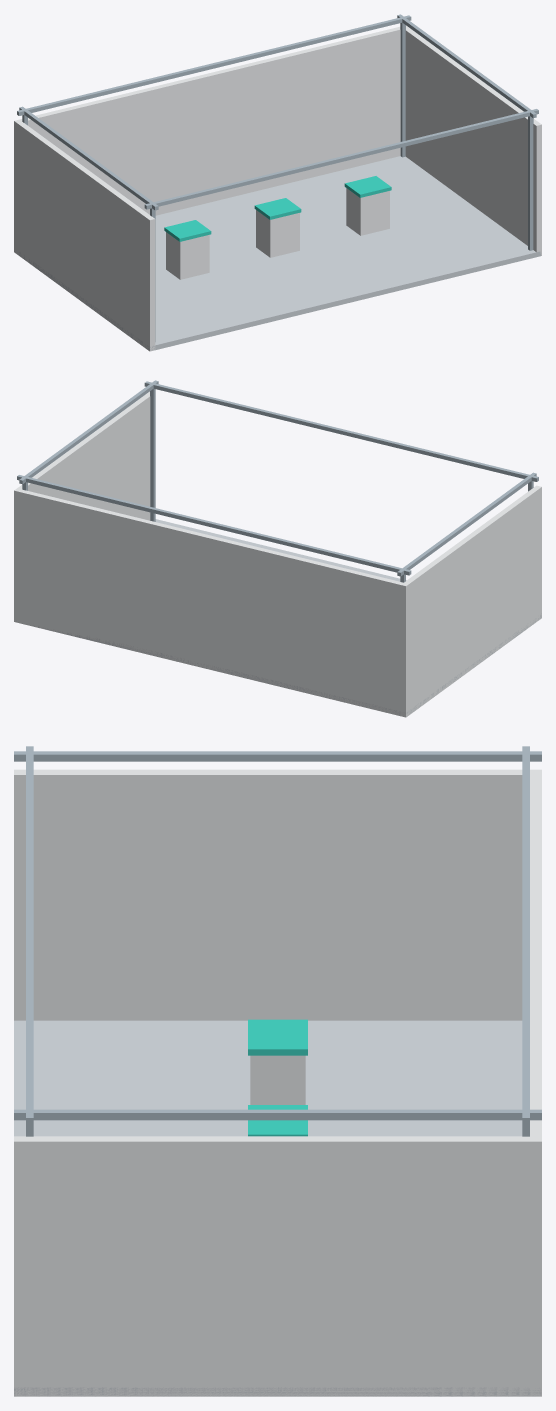
3 renders of one model, top to bottom at view 1: azimuth 30°, elevation 25°; view 2: azimuth 150°, elevation 25°; view 3: azimuth 270°, elevation 25°, orthographic. The views are drawn at different scales.
Visible parts, largest first — view 1: Exhibition Booth Concept; view 2: Exhibition Booth Concept; view 3: Exhibition Booth Concept.
Boxes of the visible parts, x1,y1,x2,y2 form: Exhibition Booth Concept: [14, 14, 541, 351]; Exhibition Booth Concept: [14, 380, 541, 717]; Exhibition Booth Concept: [14, 746, 541, 1396].
Bounding box in the file's own units: 10 × 3.49 × 6.
